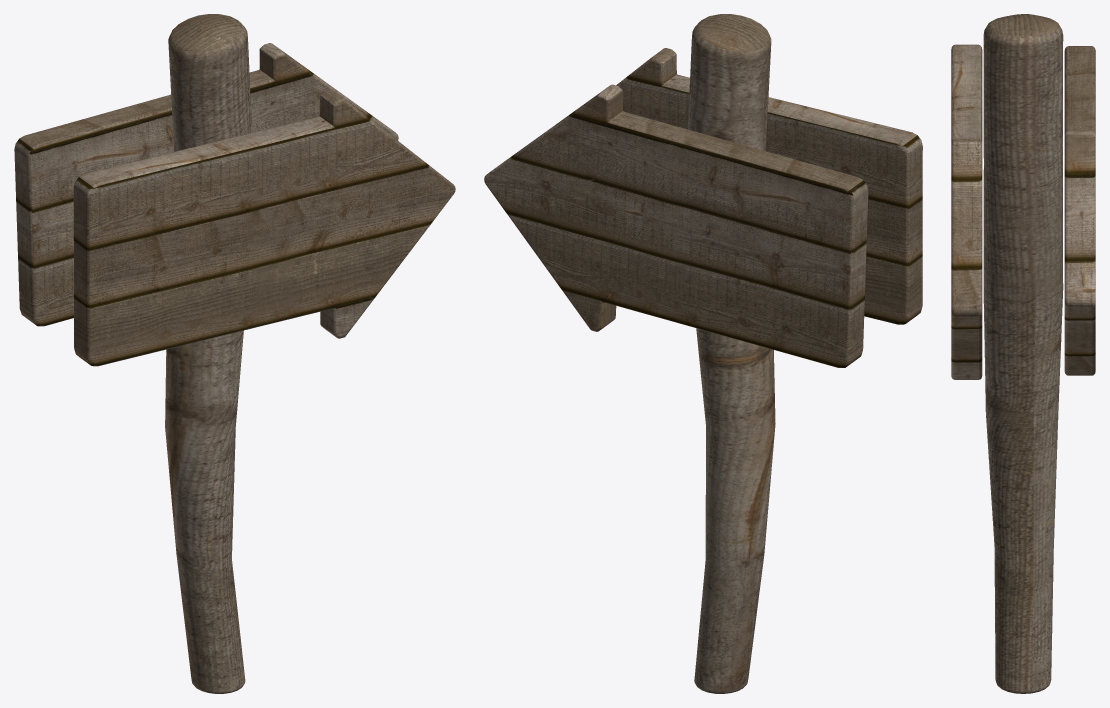
File: testAnim.glb
3 renders of one model, left to right at view 1: azimuth 30°, elevation 25°; view 2: azimuth 150°, elevation 25°; view 3: azimuth 270°, elevation 25°, orthographic.
Visible parts, largest first — view 1: SignArrow1, SignPole, SignArrow2; view 2: SignArrow2, SignPole, SignArrow1; view 3: SignPole, SignArrow1, SignArrow2.
Part boxes in pixels (x1,y1,x2,y2): SignArrow1: (73,89,455,366); SignPole: (165,14,251,693); SignArrow2: (14,43,398,326); SignArrow2: (484,84,868,367); SignPole: (687,14,775,693); SignArrow1: (616,48,922,324); SignPole: (983,14,1063,693); SignArrow1: (951,44,982,379); SignArrow2: (1064,46,1095,375).
Size of the model in its own units: 0.2033 by 0.3462 by 0.0686.
1 material, 1 textured.
